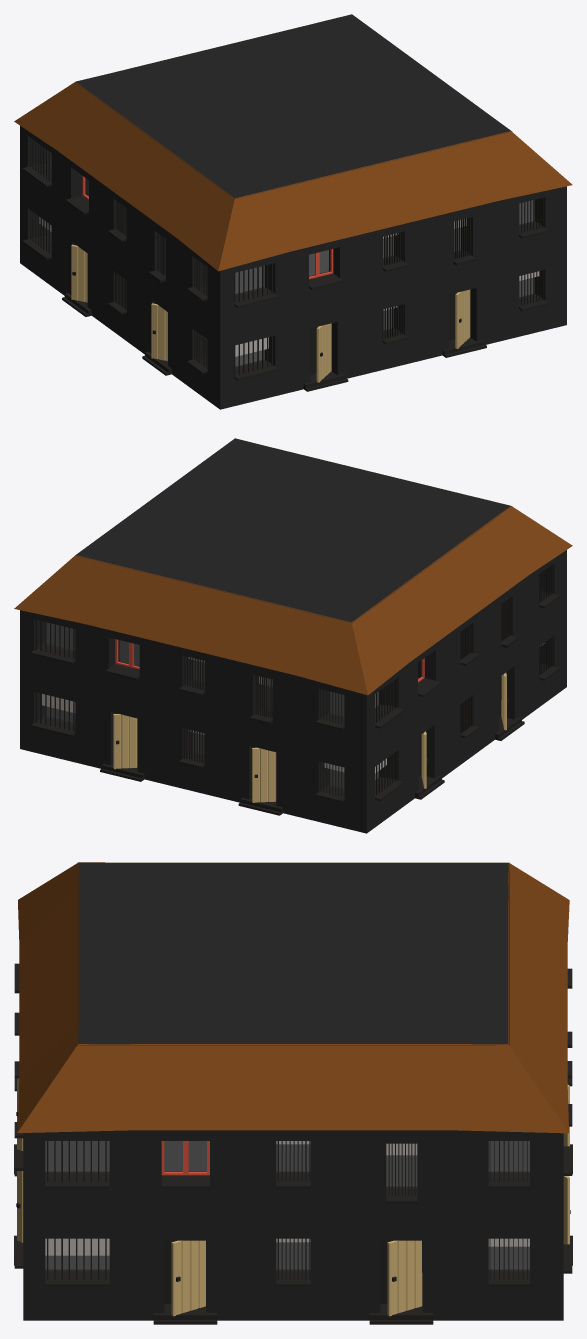
File: Casa_Procedural_13.fbx
3 views of the same model, one above another, from view 1: azimuth 30°, elevation 25°; view 2: azimuth 150°, elevation 25°; view 3: azimuth 270°, elevation 25° (orthographic). The views are drawn at different scales.
Parts seen in each view (by area): view 1: 13; view 2: 13; view 3: 13.
Boxes of the visible parts, left/top/right/bottom form: 13: left=14, top=14, right=572, bottom=409; 13: left=14, top=438, right=572, bottom=833; 13: left=14, top=862, right=572, bottom=1324.
Size of the model in its own units: 518 by 259 by 518.
